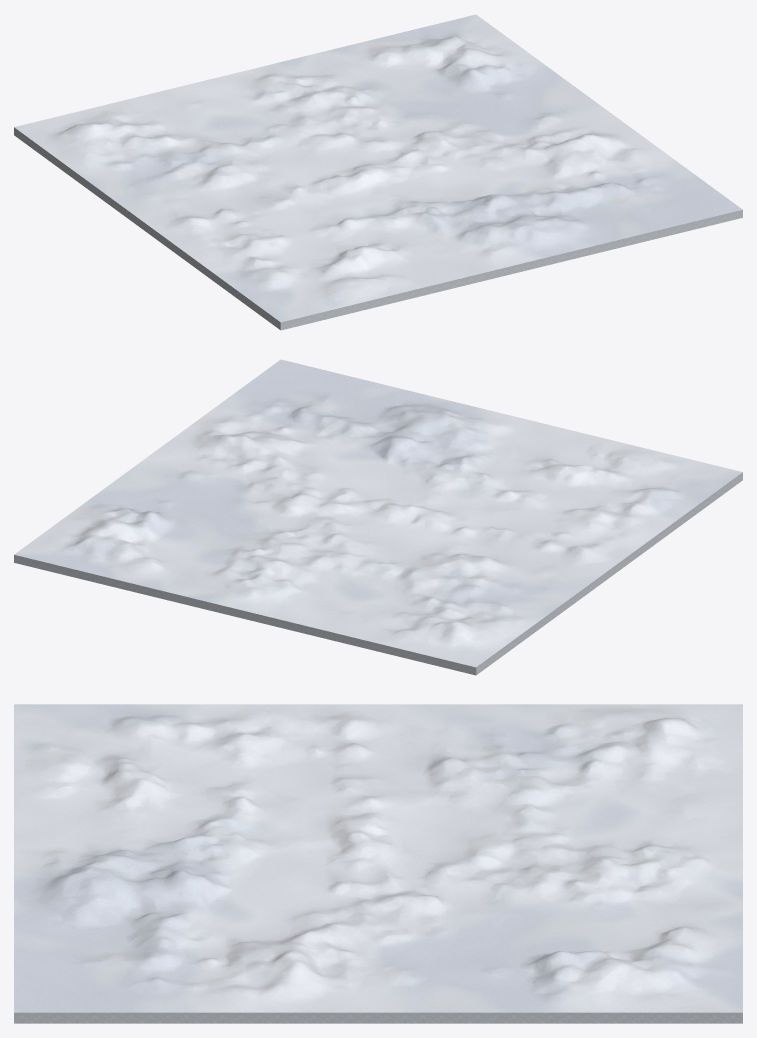
Rendered from snow-field.glb.
3 views of the same model, one above another, from view 1: azimuth 30°, elevation 25°; view 2: azimuth 150°, elevation 25°; view 3: azimuth 270°, elevation 25° (orthographic). The views are drawn at different scales.
Parts seen in each view (by area): view 1: Wind-packed snow; view 2: Wind-packed snow; view 3: Wind-packed snow.
Part boxes in pixels (x1,y1,x2,y2): Wind-packed snow: (14,14,742,330); Wind-packed snow: (14,359,742,675); Wind-packed snow: (14,704,742,1023).
Bounding box in the file's own units: 24 × 0.9965 × 24.
2 materials, 2 textured.
